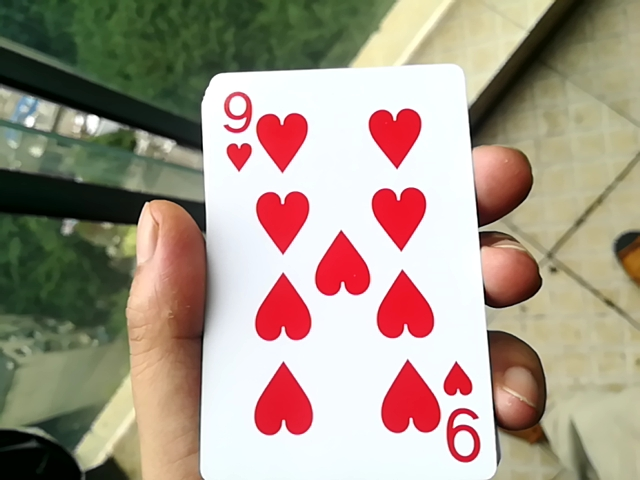hx 9: (173, 61, 489, 480)
